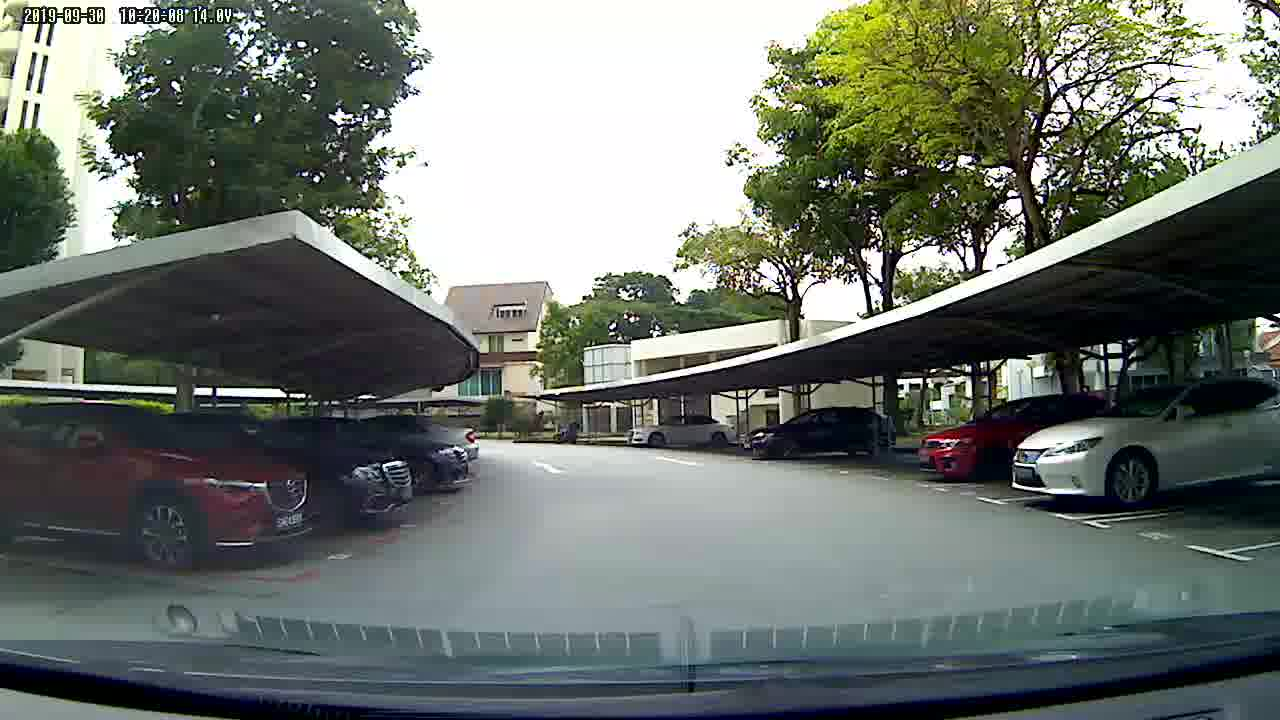car: (1, 388, 324, 582), (1007, 374, 1280, 513), (740, 405, 901, 470), (621, 408, 740, 453)
